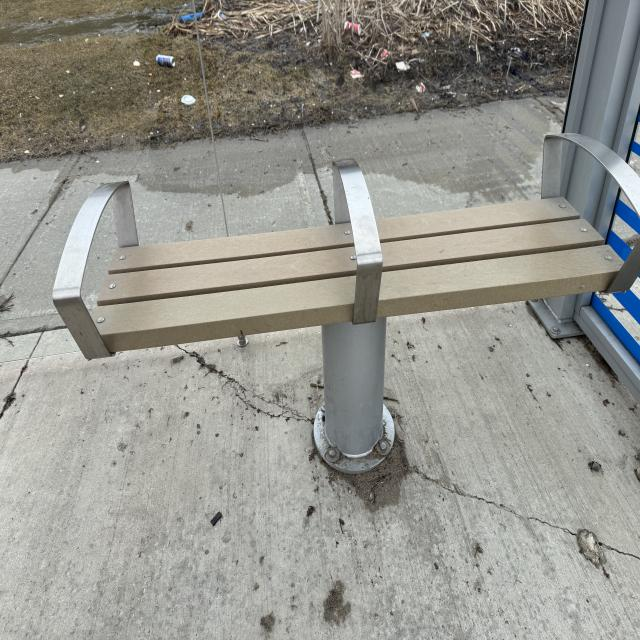Bench: (51, 119, 640, 452)
